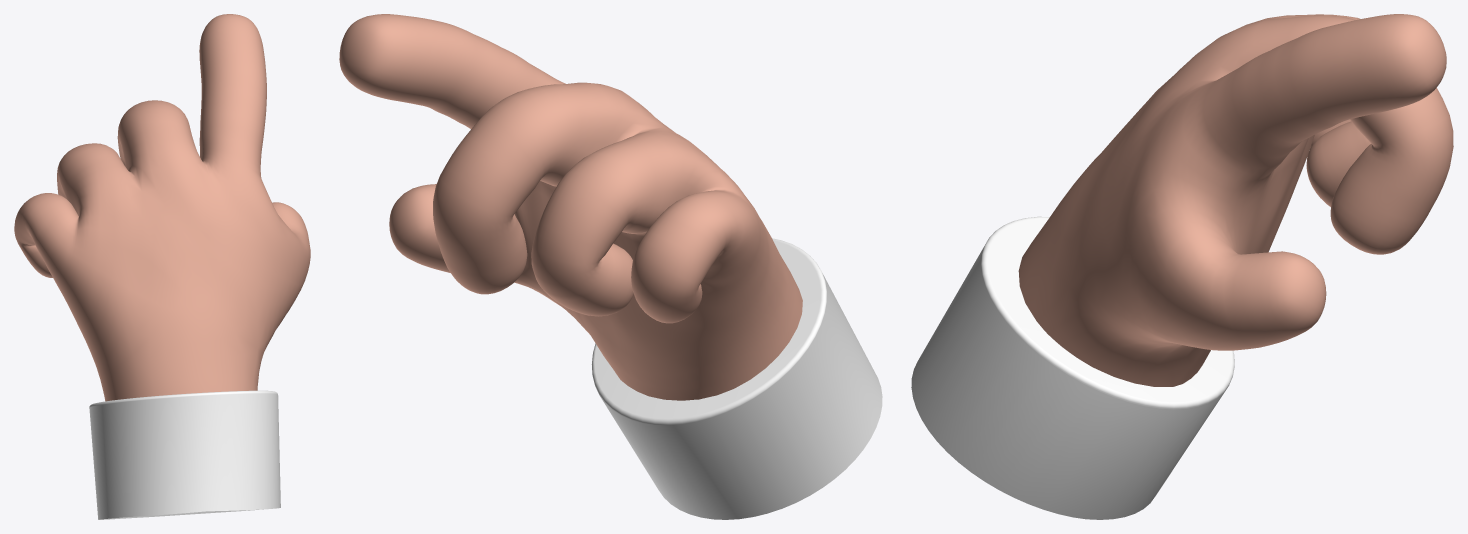
File: emoji_shirt_pointing.glb
3 views of the same model, side by side, from view 1: azimuth 30°, elevation 25°; view 2: azimuth 150°, elevation 25°; view 3: azimuth 270°, elevation 25° (orthographic). The views are drawn at different scales.
Visible parts, largest first — view 1: hand, shirt; view 2: hand, shirt; view 3: hand, shirt.
Part boxes in pixels (<box>): hand: <box>14,14,310,401</box>; shirt: <box>89,390,280,519</box>; hand: <box>339,14,802,400</box>; shirt: <box>591,238,882,519</box>; hand: <box>1018,14,1453,386</box>; shirt: <box>911,216,1234,519</box>.
Size of the model in its own units: 3.08 by 4.28 by 3.6.
